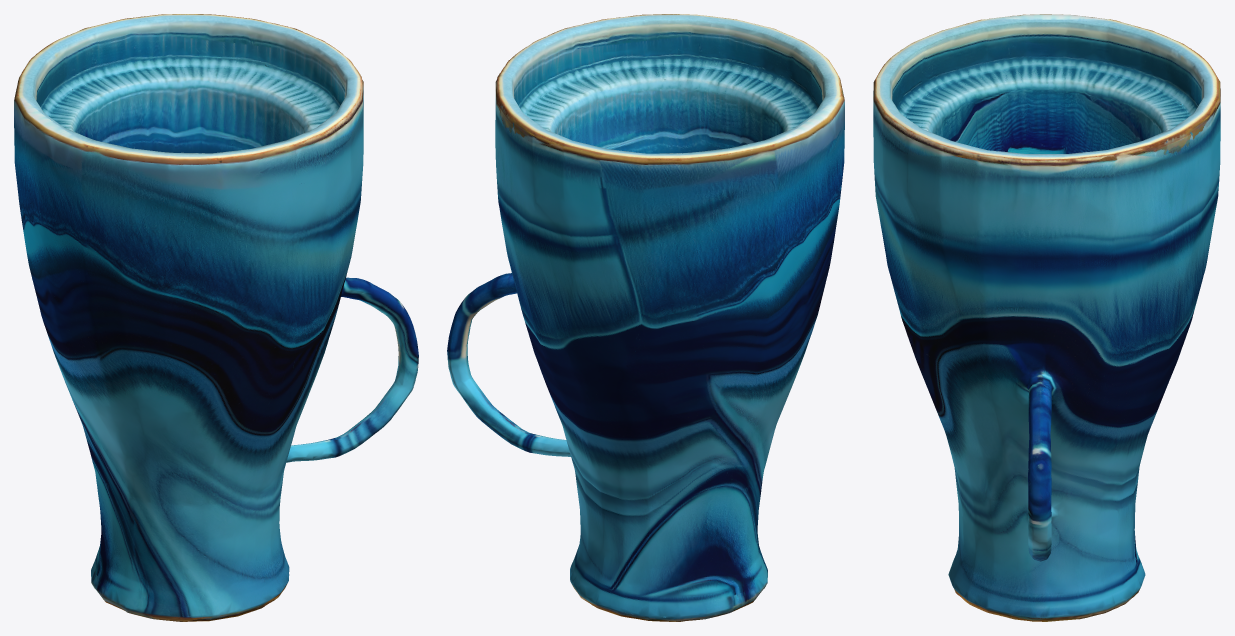
The model's file is cousin_5.glb.
The picture shows the model from 3 angles, left to right: view 1: azimuth 30°, elevation 25°; view 2: azimuth 150°, elevation 25°; view 3: azimuth 270°, elevation 25°; orthographic projection.
Size of the model in its own units: 1.51 by 1.91 by 1.21.
1 material, 1 textured.
